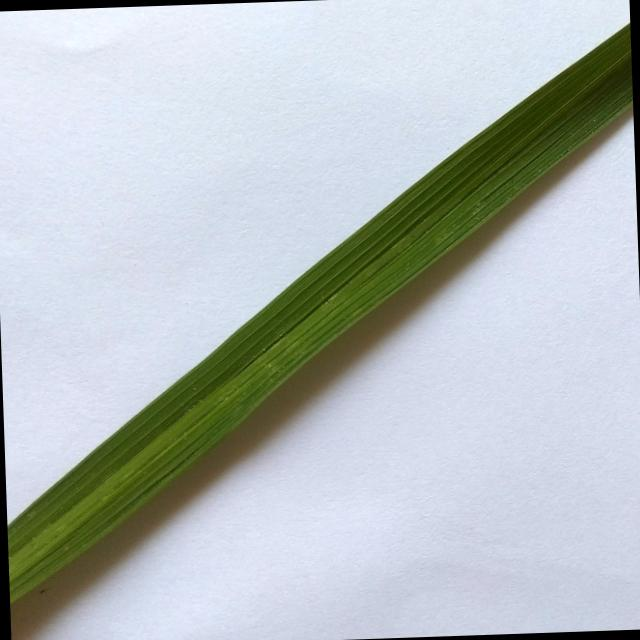Rice_Healthy: (7, 24, 632, 601)
